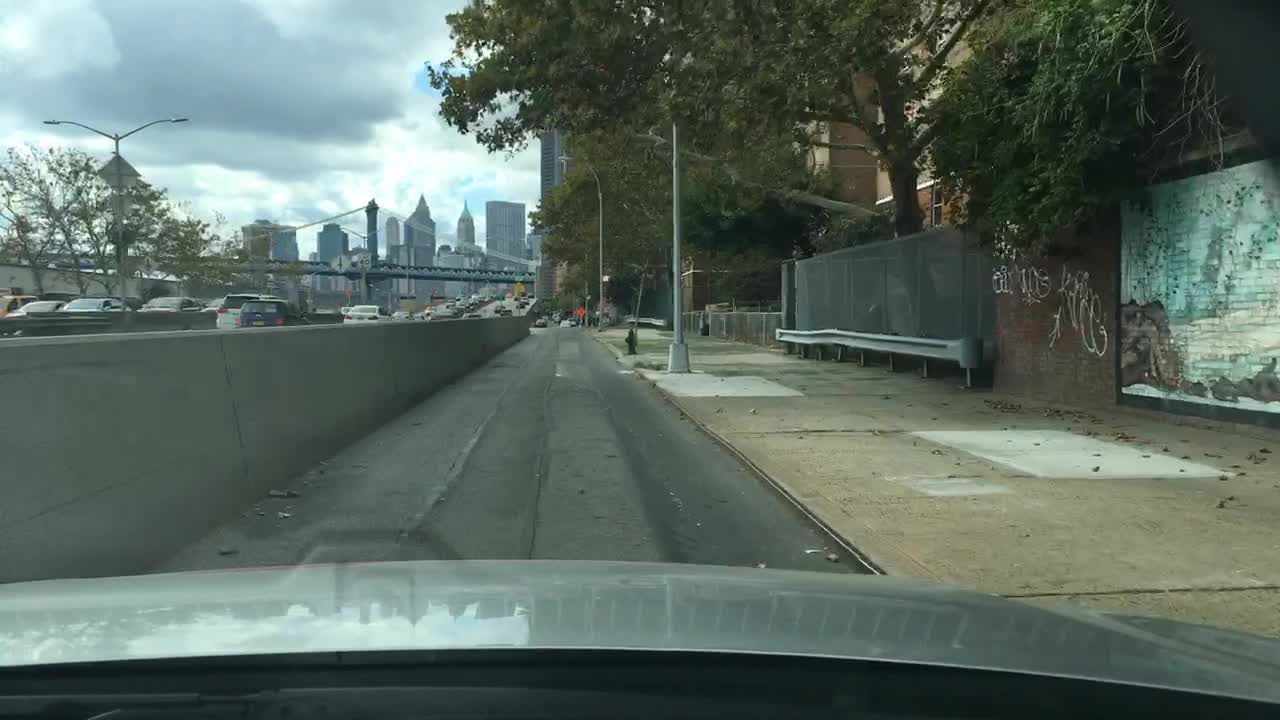car: (213, 291, 282, 330), (237, 296, 314, 328), (1, 297, 68, 322), (136, 294, 204, 316), (60, 294, 135, 312), (339, 303, 393, 325), (0, 294, 32, 318), (390, 308, 423, 324), (203, 296, 228, 315), (443, 296, 461, 312), (421, 305, 437, 322), (463, 311, 483, 322), (463, 296, 479, 309), (478, 294, 495, 306), (534, 315, 547, 330), (498, 308, 512, 321), (562, 316, 577, 328), (550, 311, 562, 325), (492, 303, 506, 313), (519, 293, 528, 306), (515, 302, 527, 311)
traffic sign: (99, 155, 142, 190), (111, 190, 133, 220), (356, 250, 372, 273), (510, 281, 527, 299), (574, 306, 586, 321)
